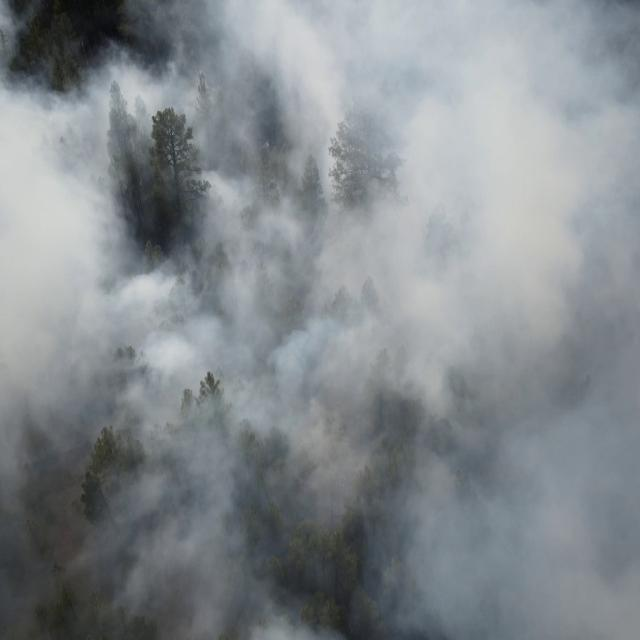smoke: (0, 85, 640, 640), (119, 0, 640, 44), (69, 44, 640, 84), (0, 0, 35, 82)
